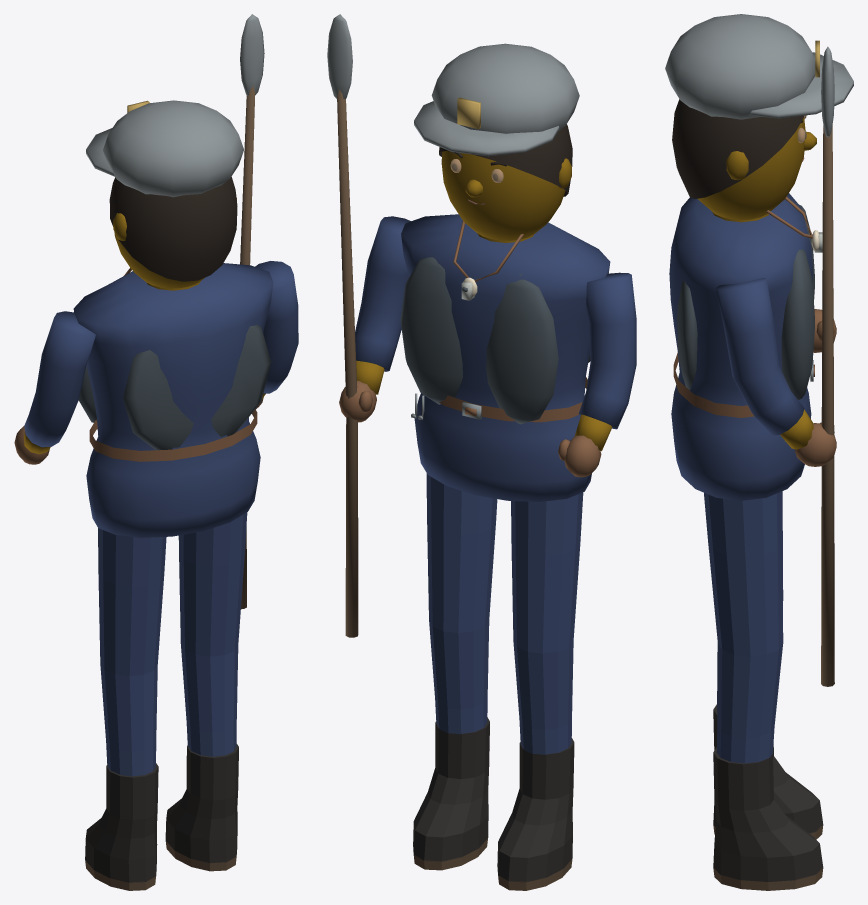
The model's file is SM_NPC_TIBURON.glb.
The picture shows the model from 3 angles, left to right: view 1: azimuth 30°, elevation 25°; view 2: azimuth 150°, elevation 25°; view 3: azimuth 270°, elevation 25°; orthographic projection. The views are drawn at different scales.
Parts seen in each view (by area): view 1: SM_NPC_TIBURON_BODY, SM_NPC_TIBURON_LEG_L, SM_NPC_TIBURON_HAIR, SM_NPC_TIBURON_LEG_R, SM_NPC_TIBURON_ARM_R, SM_NPC_TIBURON_ARM_L, SM_NPC_TIBURON_HEAD; view 2: SM_NPC_TIBURON_BODY, SM_NPC_TIBURON_LEG_L, SM_NPC_TIBURON_LEG_R, SM_NPC_TIBURON_HAIR, SM_NPC_TIBURON_ARM_R, SM_NPC_TIBURON_ARM_L, SM_NPC_TIBURON_HEAD; view 3: SM_NPC_TIBURON_BODY, SM_NPC_TIBURON_LEG_R, SM_NPC_TIBURON_HAIR, SM_NPC_TIBURON_ARM_R, SM_NPC_TIBURON_HEAD, SM_NPC_TIBURON_LEG_L, SM_NPC_TIBURON_ARM_L.
Boxes of the visible parts, x1,y1,x2,y2 form: SM_NPC_TIBURON_BODY: (73,263,273,537); SM_NPC_TIBURON_LEG_L: (85,528,166,890); SM_NPC_TIBURON_HAIR: (86,100,243,281); SM_NPC_TIBURON_LEG_R: (165,512,247,871); SM_NPC_TIBURON_ARM_R: (240,14,298,609); SM_NPC_TIBURON_ARM_L: (14,311,95,464); SM_NPC_TIBURON_HEAD: (113,198,236,288); SM_NPC_TIBURON_BODY: (400,214,610,501); SM_NPC_TIBURON_LEG_L: (497,492,583,890); SM_NPC_TIBURON_LEG_R: (413,473,497,870); SM_NPC_TIBURON_HAIR: (414,43,579,196); SM_NPC_TIBURON_ARM_R: (327,14,410,637); SM_NPC_TIBURON_ARM_L: (558,272,636,477); SM_NPC_TIBURON_HEAD: (441,151,571,240); SM_NPC_TIBURON_BODY: (669,193,822,500); SM_NPC_TIBURON_LEG_R: (704,491,823,890); SM_NPC_TIBURON_HAIR: (665,14,853,198); SM_NPC_TIBURON_ARM_R: (716,46,836,686); SM_NPC_TIBURON_HEAD: (698,117,816,220); SM_NPC_TIBURON_LEG_L: (713,491,823,839); SM_NPC_TIBURON_ARM_L: (813,309,836,352).
Size of the model in its own units: 0.7035 by 2.07 by 0.4062.
